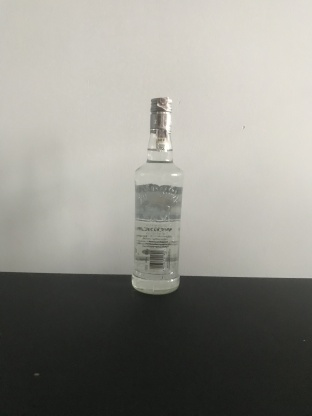nakretka: (148, 93, 173, 134), (148, 94, 173, 133)
